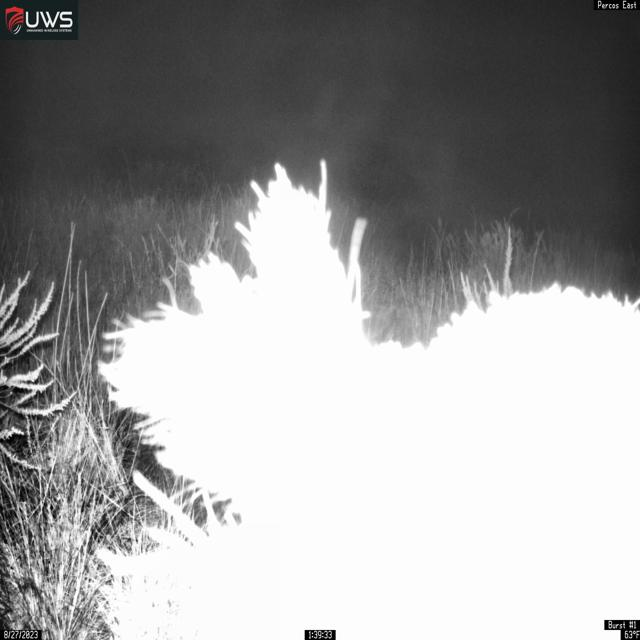pig: (95, 159, 640, 640)
